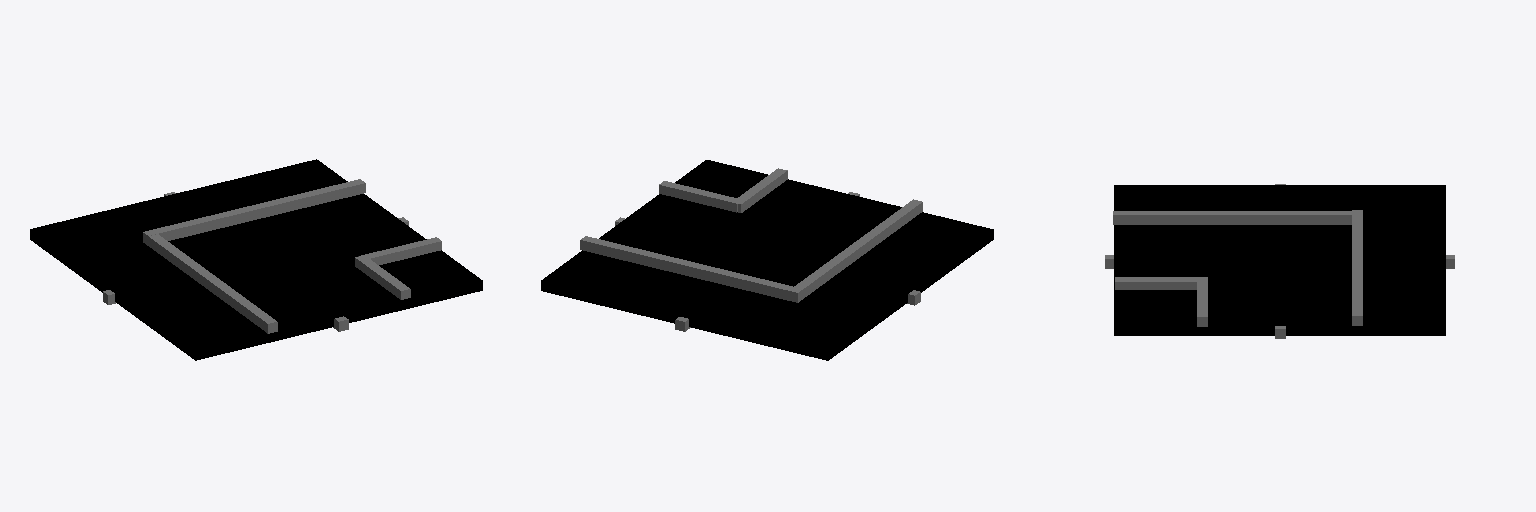
Rendered from roadSouthToEast.obj.
3 renders of one model, left to right at view 1: azimuth 30°, elevation 25°; view 2: azimuth 150°, elevation 25°; view 3: azimuth 270°, elevation 25°, orthographic.
Visible parts, largest first — view 1: pCube1, pCube9, pCube7, pCube10, pCube5; view 2: pCube1, pCube9, pCube7, pCube10, pCube5; view 3: pCube1, pCube7, pCube9, pCube5, pCube10.
Boxes of the visible parts, x1=… form: pCube1: x1=30, y1=159, x2=482, y2=360; pCube9: x1=143, y1=179, x2=365, y2=245; pCube7: x1=148, y1=234, x2=277, y2=333; pCube10: x1=358, y1=237, x2=441, y2=264; pCube5: x1=355, y1=257, x2=410, y2=299; pCube1: x1=541, y1=160, x2=993, y2=360; pCube9: x1=580, y1=236, x2=802, y2=302; pCube7: x1=794, y1=199, x2=922, y2=298; pCube10: x1=659, y1=181, x2=737, y2=212; pCube5: x1=733, y1=168, x2=787, y2=212; pCube1: x1=1114, y1=185, x2=1445, y2=335; pCube7: x1=1113, y1=211, x2=1351, y2=224; pCube9: x1=1352, y1=210, x2=1362, y2=325; pCube5: x1=1115, y1=277, x2=1207, y2=289; pCube10: x1=1197, y1=279, x2=1207, y2=326.
Size of the model in its own units: 31.34 by 2.18 by 31.57.